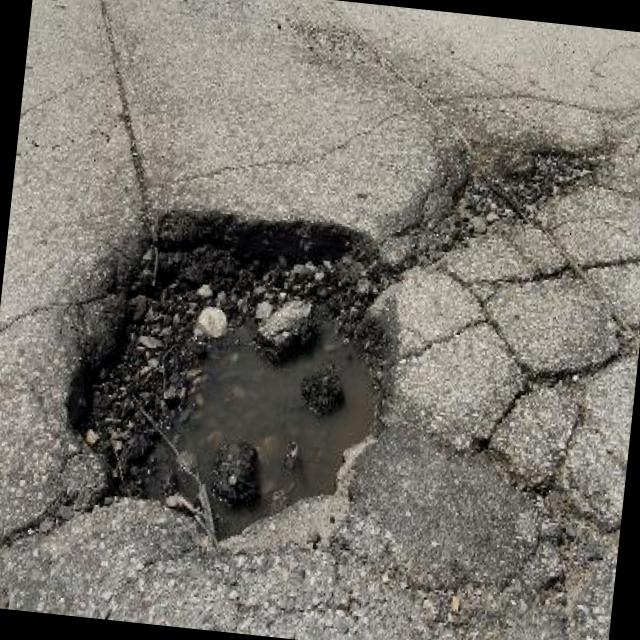Lubang: (61, 211, 405, 536), (412, 150, 603, 261)
